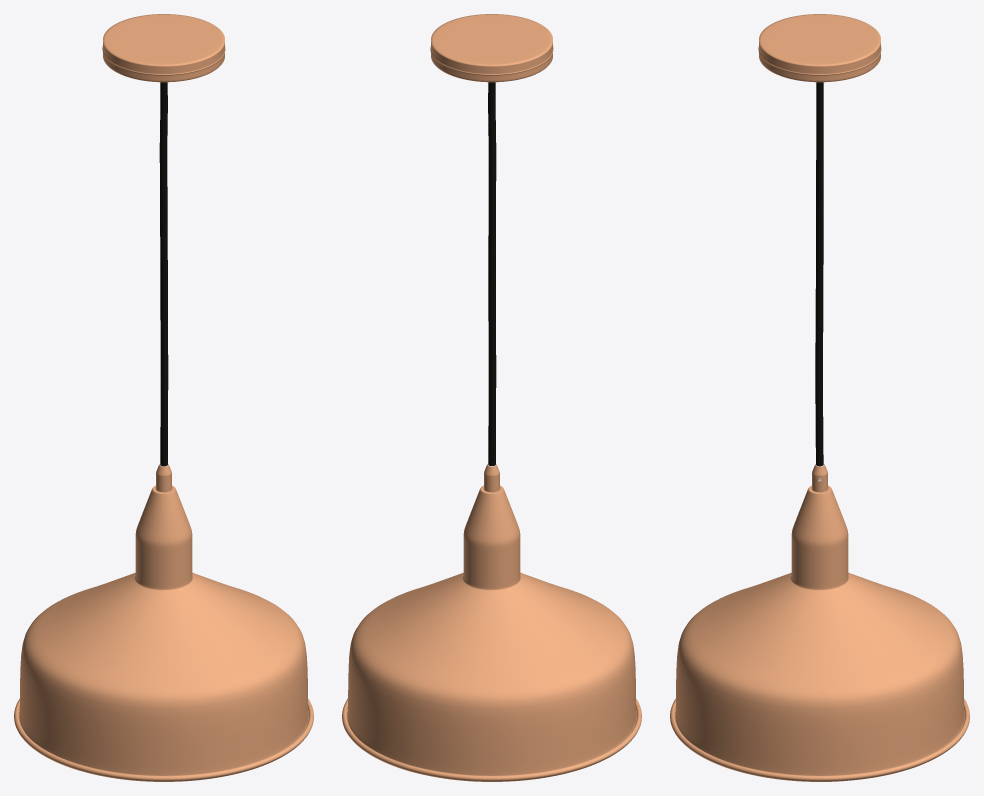
3 views of the same model, side by side, from view 1: azimuth 30°, elevation 25°; view 2: azimuth 150°, elevation 25°; view 3: azimuth 270°, elevation 25° (orthographic).
Parts seen in each view (by area): view 1: RootNode; view 2: RootNode; view 3: RootNode.
Part boxes in pixels (x1,y1,x2,y2): RootNode: (14,14,313,781); RootNode: (342,14,641,781); RootNode: (670,14,969,781).
Bounding box in the file's own units: 0.301 × 0.754 × 0.301.
Materials: 1 (1 with a texture image).
